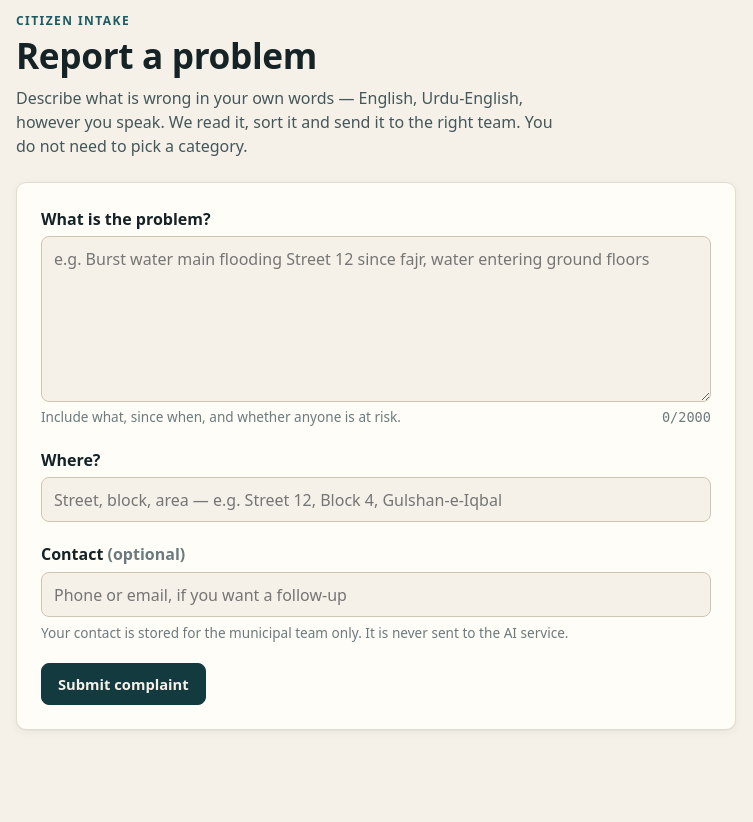
Test case: SubmitPage › maps server field errors (400) onto the matching inputs
Type "Burst water main flooding Street 12" into the text box labelled "What is the problem?" at (376, 319), box [41,236,711,402]
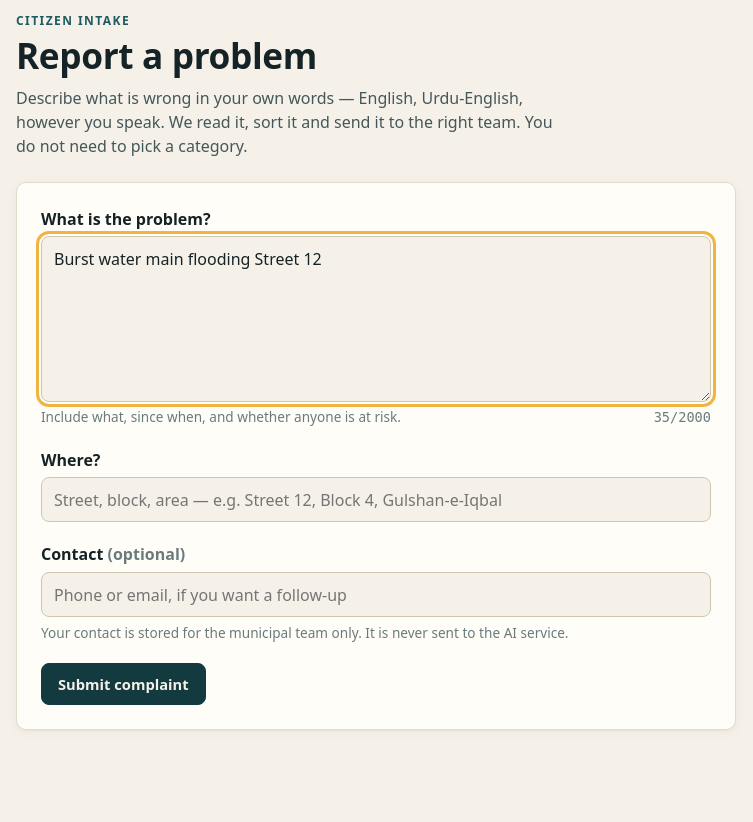
Type "Street 12, Gulshan" into the field labelled "Where?" at (376, 500), box [41,477,711,522]
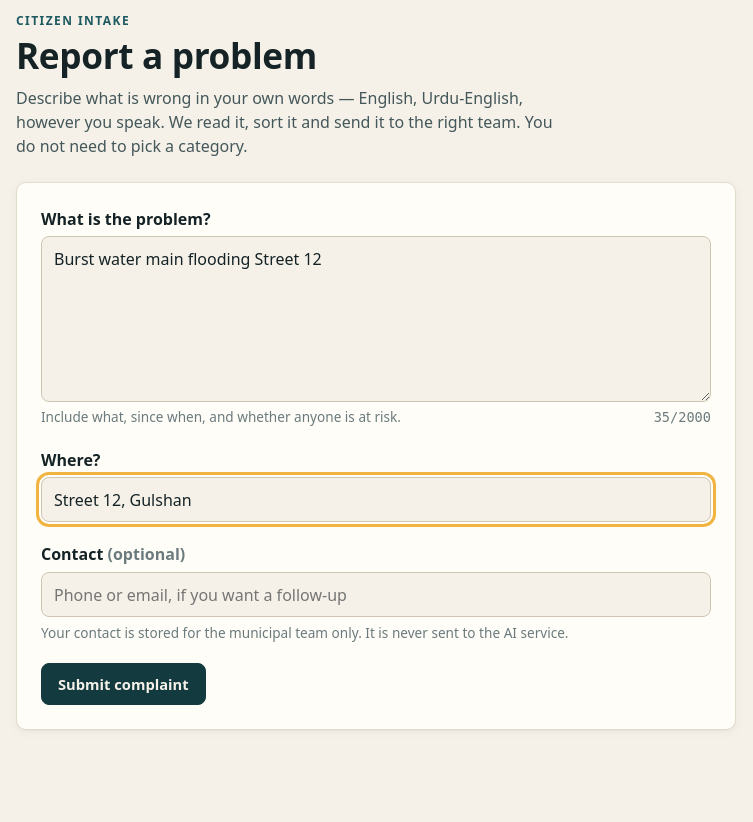
Click the button "Submit complaint" at (123, 684), box [41,663,206,705]
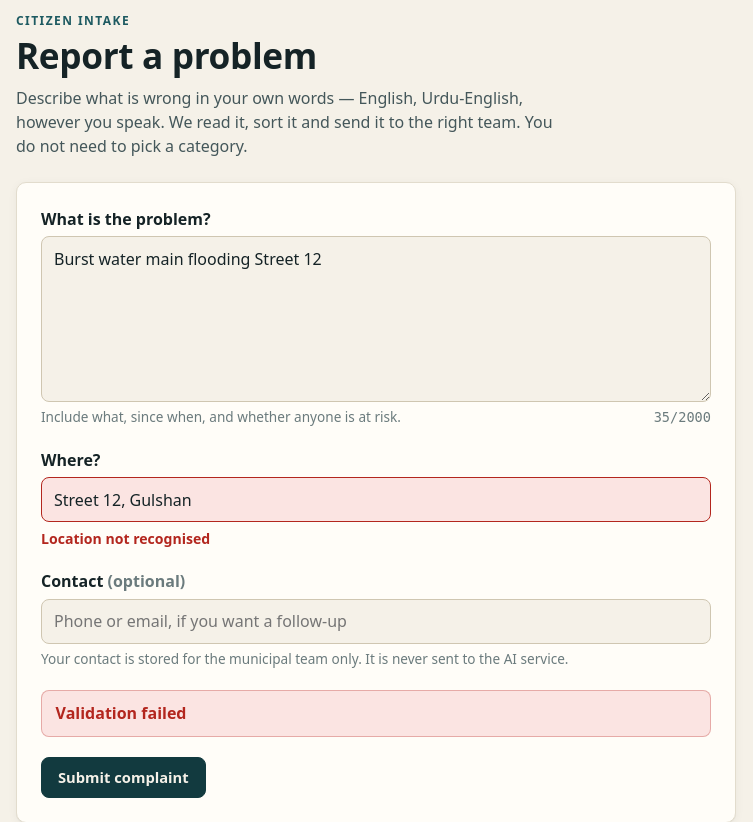
Result: the text "Location not recognised" is shown at [41,529,210,548]
